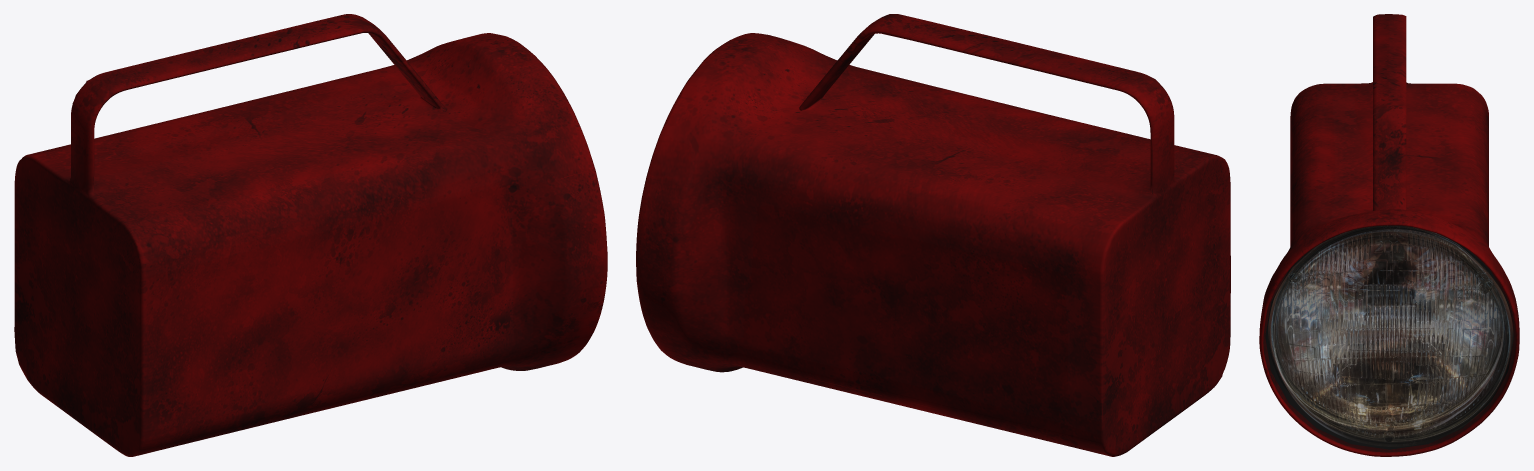
The model's file is flash_light.glb.
The picture shows the model from 3 angles, left to right: view 1: azimuth 30°, elevation 25°; view 2: azimuth 150°, elevation 25°; view 3: azimuth 270°, elevation 25°; orthographic projection. The views are drawn at different scales.
Visible parts, largest first — view 1: FlashLight_Body; view 2: FlashLight_Body; view 3: FlashLight_OuterLense, FlashLight_InnerLense, FlashLight_Body.
Boxes of the visible parts, x1=… form: FlashLight_Body: x1=14, y1=14, x2=607, y2=456; FlashLight_Body: x1=636, y1=14, x2=1230, y2=456; FlashLight_OuterLense: x1=1263, y1=225, x2=1515, y2=452; FlashLight_InnerLense: x1=1265, y1=225, x2=1513, y2=449; FlashLight_Body: x1=1259, y1=14, x2=1519, y2=456.
Bounding box in the file's own units: 152 × 122 × 99.92.
3 materials, 3 textured.
